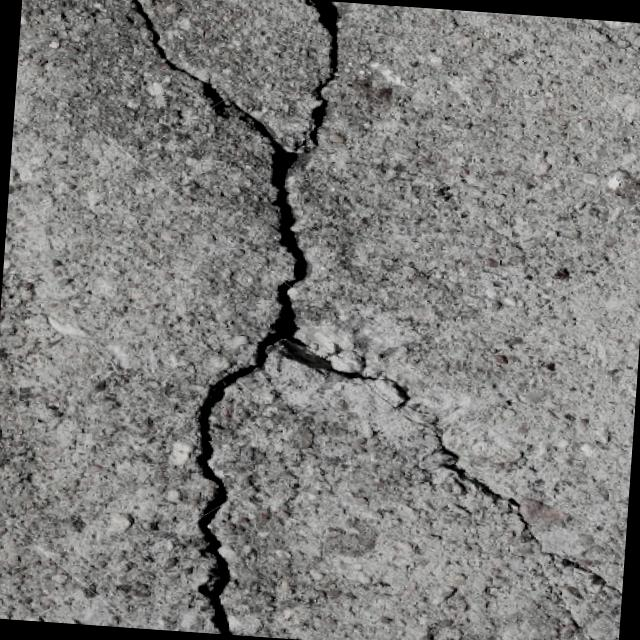crack: (314, 364, 632, 640), (111, 0, 347, 150), (241, 144, 343, 382), (180, 368, 252, 633)
